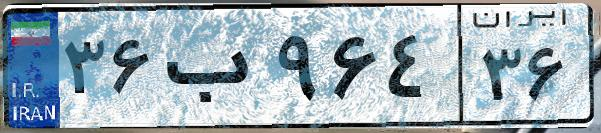3: (57, 26, 110, 100), (475, 38, 525, 113)
4: (385, 28, 445, 110)
6: (330, 28, 385, 110), (525, 38, 570, 115), (110, 28, 158, 98)
9: (270, 28, 330, 110)
ب: (158, 20, 270, 120)
